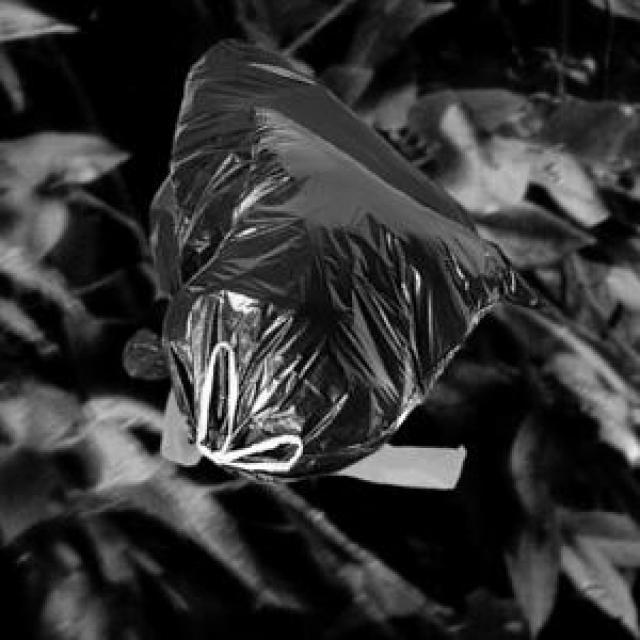miscellaneous trash: (158, 105, 544, 480), (120, 34, 468, 373)
